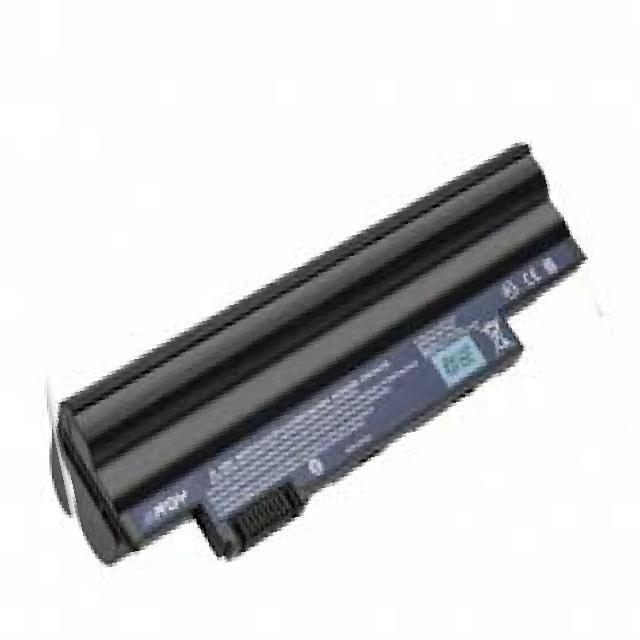Battery: (36, 132, 618, 576)
